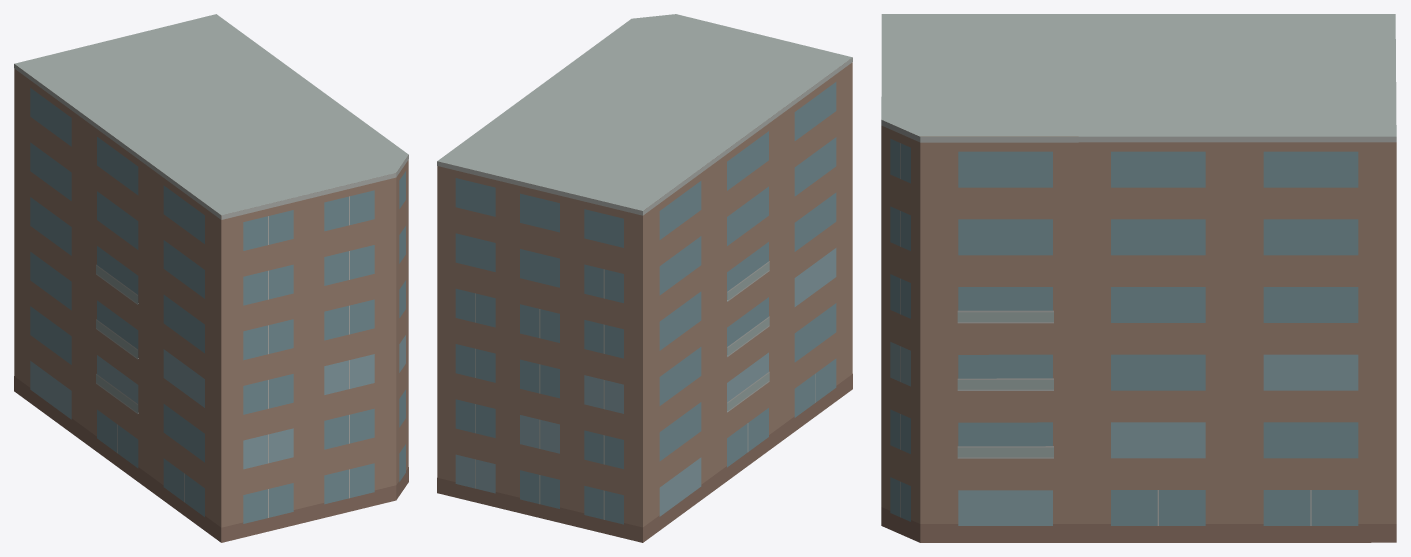
The model's file is survey-upis-32701642.glb.
The picture shows the model from 3 angles, left to right: view 1: azimuth 30°, elevation 25°; view 2: azimuth 150°, elevation 25°; view 3: azimuth 270°, elevation 25°; orthographic projection. The views are drawn at different scales.
Parts seen in each view (by area): view 1: survey-upis-32701642.tmp; view 2: survey-upis-32701642.tmp; view 3: survey-upis-32701642.tmp.
Part boxes in pixels (<box>): survey-upis-32701642.tmp: <box>14,14,408,542</box>; survey-upis-32701642.tmp: <box>437,14,852,542</box>; survey-upis-32701642.tmp: <box>881,14,1396,542</box>.
Size of the model in its own units: 11.23 by 17.2 by 19.79.
